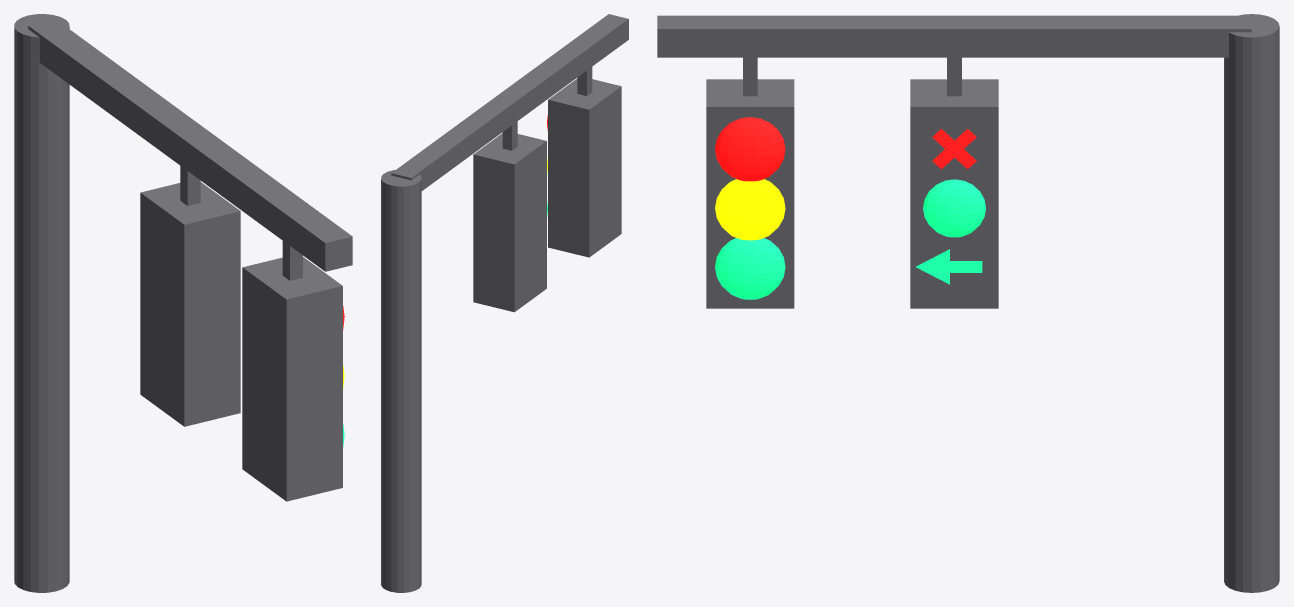
File: traffic_light_lr.fbx
The picture shows the model from 3 angles, left to right: view 1: azimuth 30°, elevation 25°; view 2: azimuth 150°, elevation 25°; view 3: azimuth 270°, elevation 25°; orthographic projection. The views are drawn at different scales.
Visible parts, largest first — view 1: Semaforo_cuerpo; view 2: Semaforo_cuerpo; view 3: Semaforo_cuerpo, lamp_red, lamp_green.001, lamp_yellow, lamp_green, lamp_green_arr.
Boxes of the visible parts, bbox=[...] form: Semaforo_cuerpo: bbox=[14, 14, 352, 592]; Semaforo_cuerpo: bbox=[381, 14, 628, 592]; Semaforo_cuerpo: bbox=[657, 14, 1279, 592]; lamp_red: bbox=[715, 117, 785, 181]; lamp_green.001: bbox=[715, 238, 785, 299]; lamp_yellow: bbox=[715, 179, 785, 240]; lamp_green: bbox=[923, 179, 985, 237]; lamp_green_arr: bbox=[916, 249, 982, 284].
Size of the model in its own units: 89.52 by 664 by 670.
